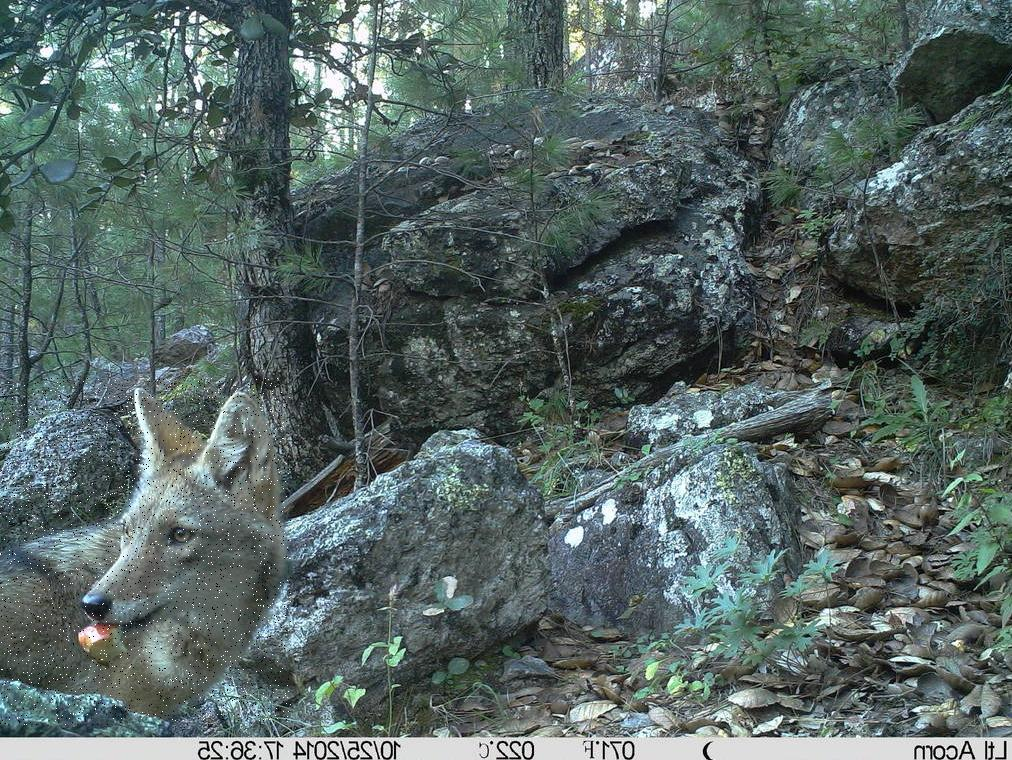Coyote: (0, 378, 291, 725)
